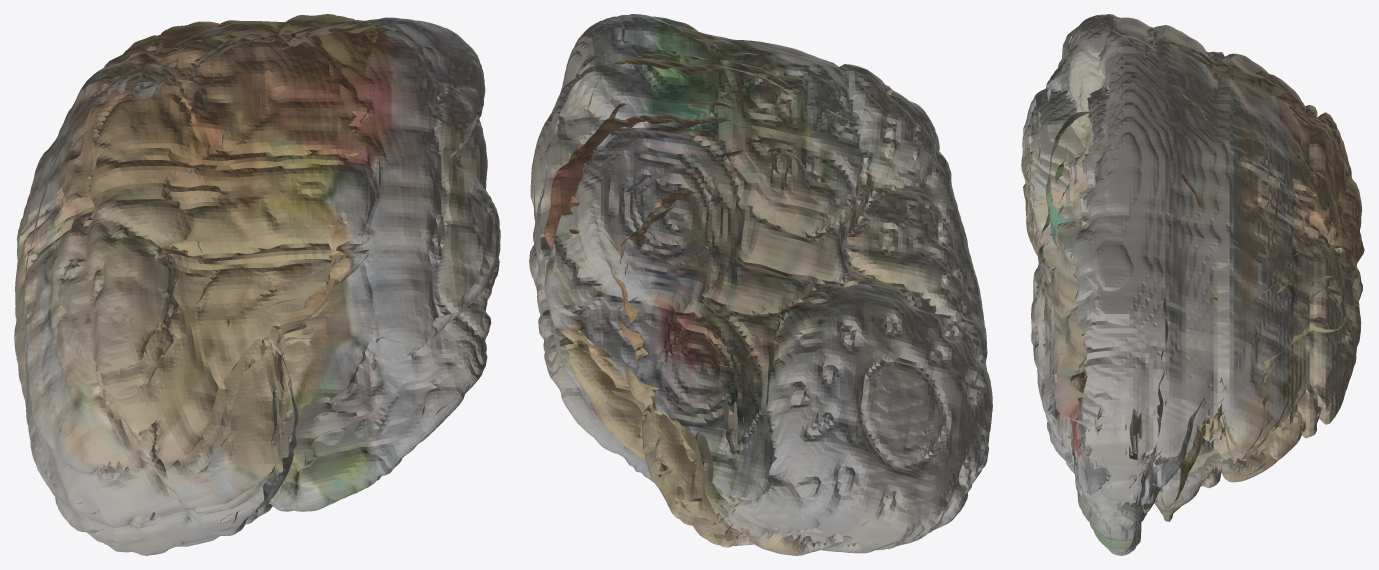
3 views of the same model, side by side, from view 1: azimuth 30°, elevation 25°; view 2: azimuth 150°, elevation 25°; view 3: azimuth 270°, elevation 25° (orthographic). The views are drawn at different scales.
Visible parts, largest first — view 1: world; view 2: world; view 3: world.
Boxes of the visible parts, x1,y1,x2,y2 form: world: (14, 14, 500, 555); world: (529, 14, 992, 555); world: (1021, 14, 1364, 555).
Size of the model in its own units: 0.8714 by 0.862 by 0.5844.
